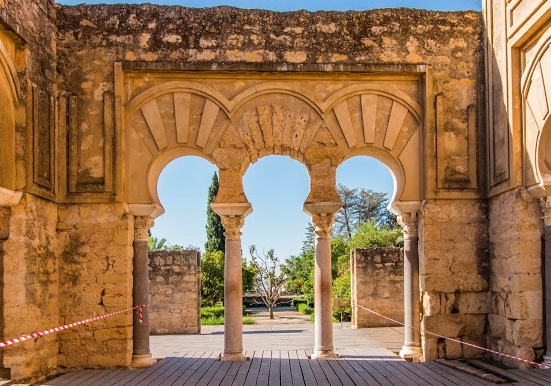arco-herradura: (322, 140, 415, 233), (232, 140, 322, 235), (140, 141, 231, 233)
